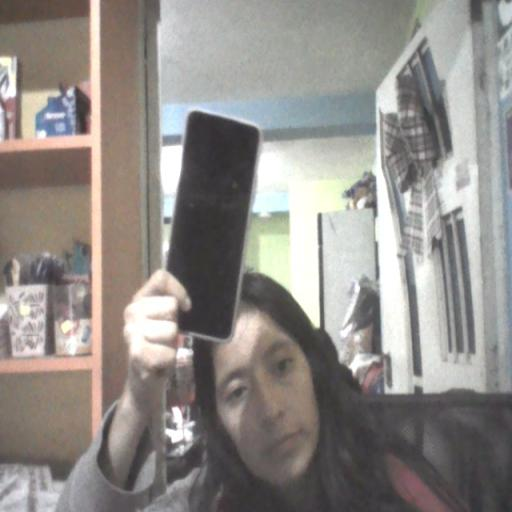phone: (156, 97, 267, 349)
